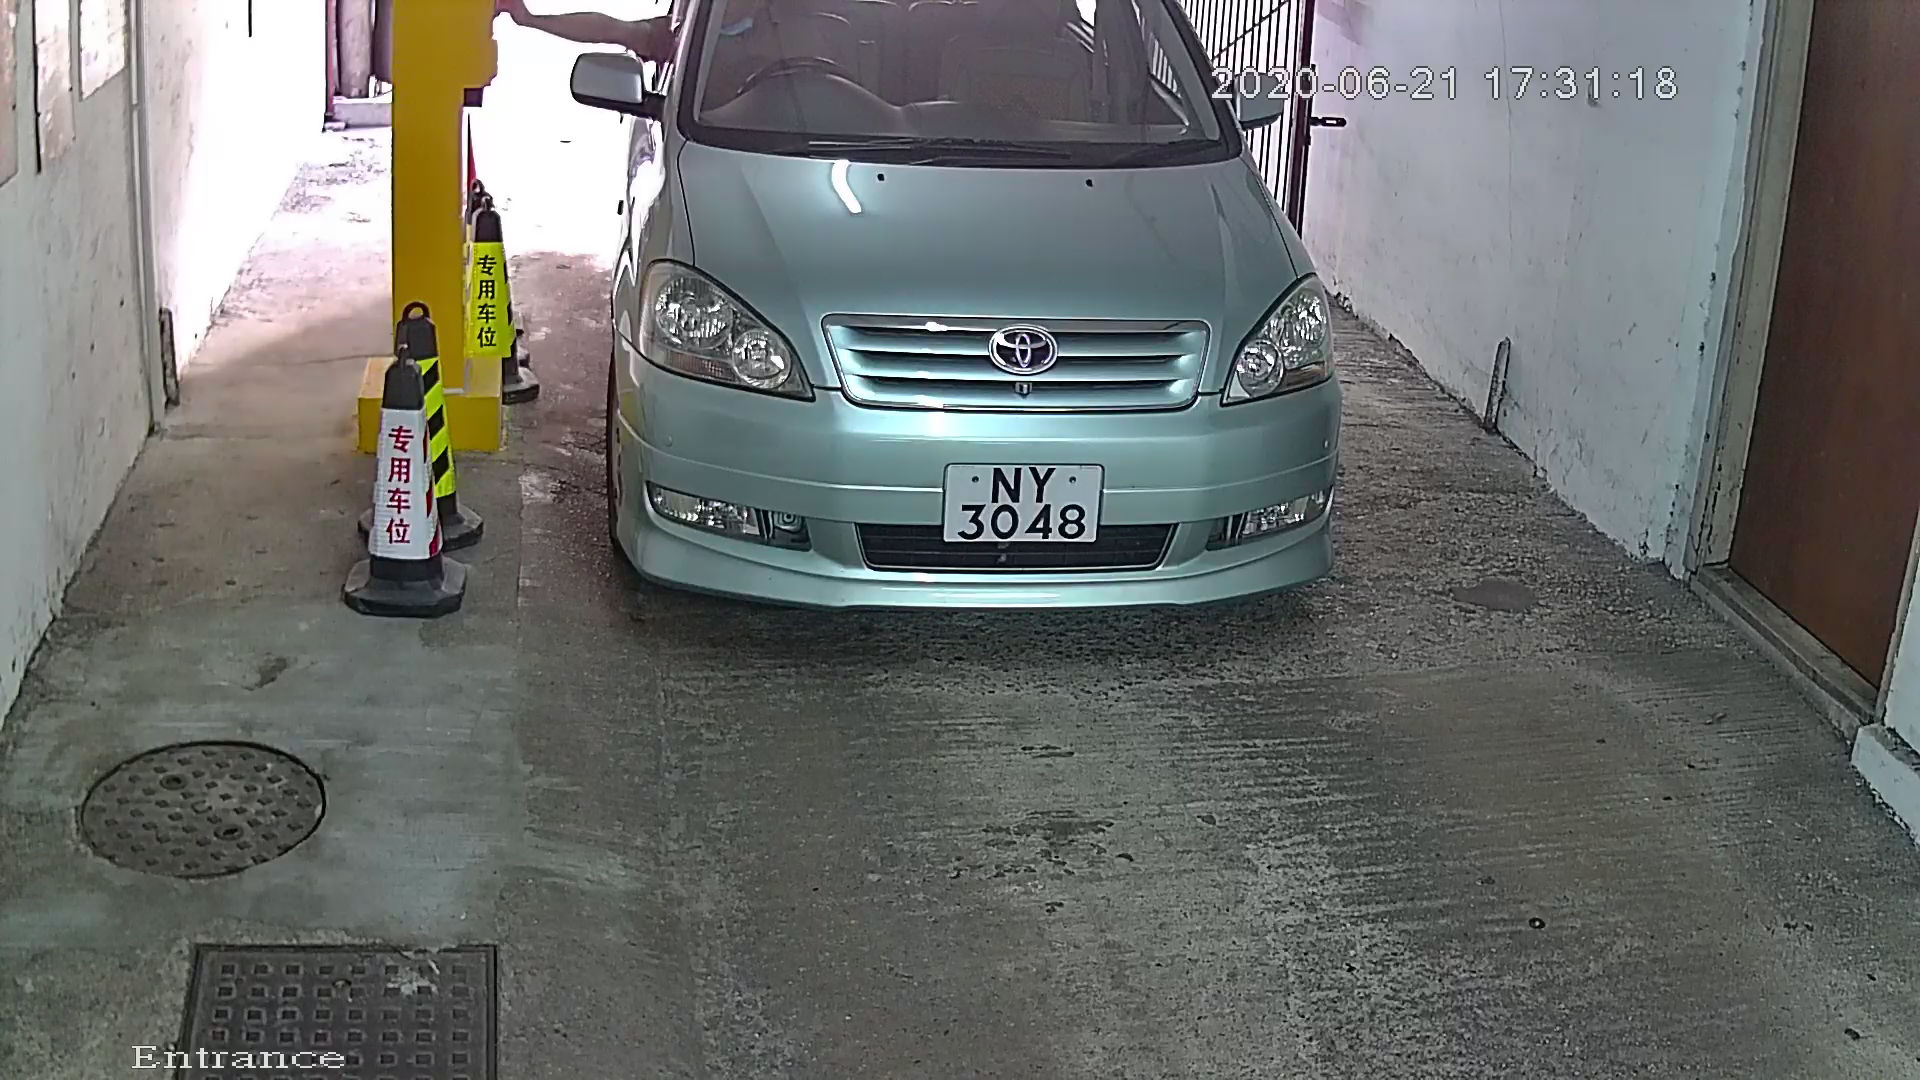privatecar: (553, 3, 1386, 703)
